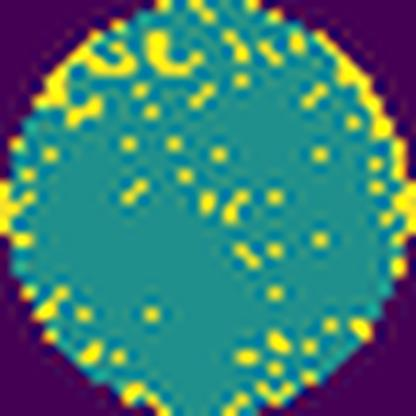Edge-Loc: (312, 29, 416, 248), (32, 27, 139, 132), (0, 183, 40, 248)
